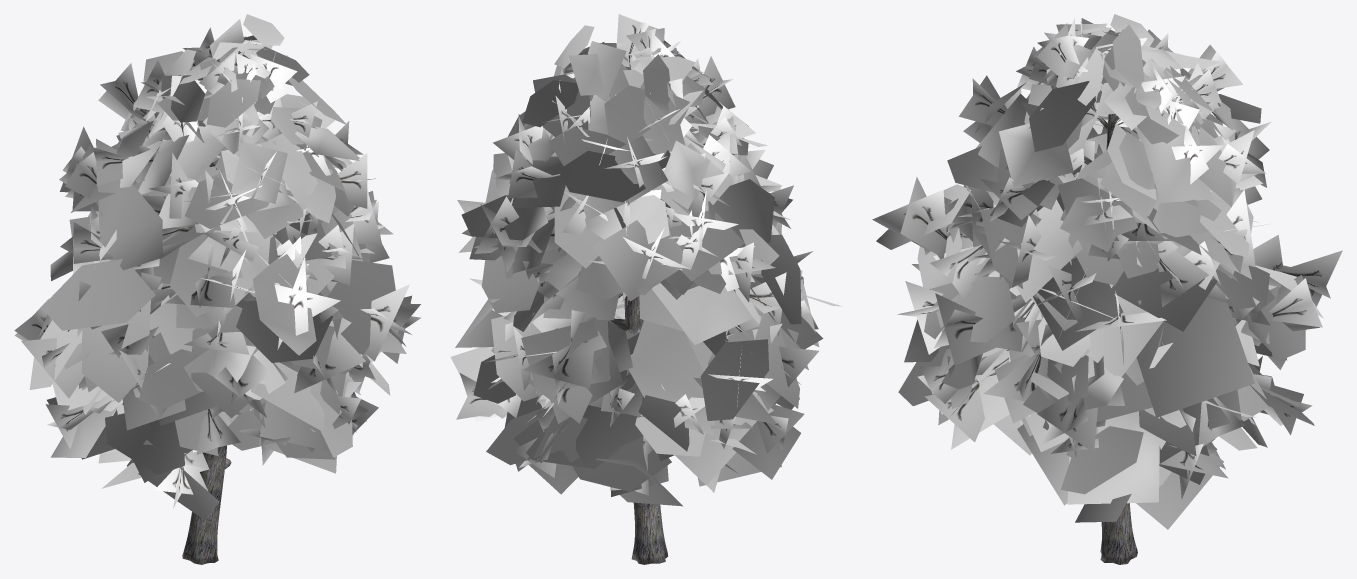
Rendered from Type_3_3.fbx.
The picture shows the model from 3 angles, left to right: view 1: azimuth 30°, elevation 25°; view 2: azimuth 150°, elevation 25°; view 3: azimuth 270°, elevation 25°; orthographic projection. The views are drawn at different scales.
Parts seen in each view (by area): view 1: Type_3_3; view 2: Type_3_3; view 3: Type_3_3.
Boxes of the visible parts, left/top/right/bottom form: Type_3_3: left=14, top=14, right=421, bottom=564; Type_3_3: left=450, top=14, right=842, bottom=564; Type_3_3: left=872, top=14, right=1342, bottom=564.
Bounding box in the file's own units: 23.95 × 25.49 × 33.4.
